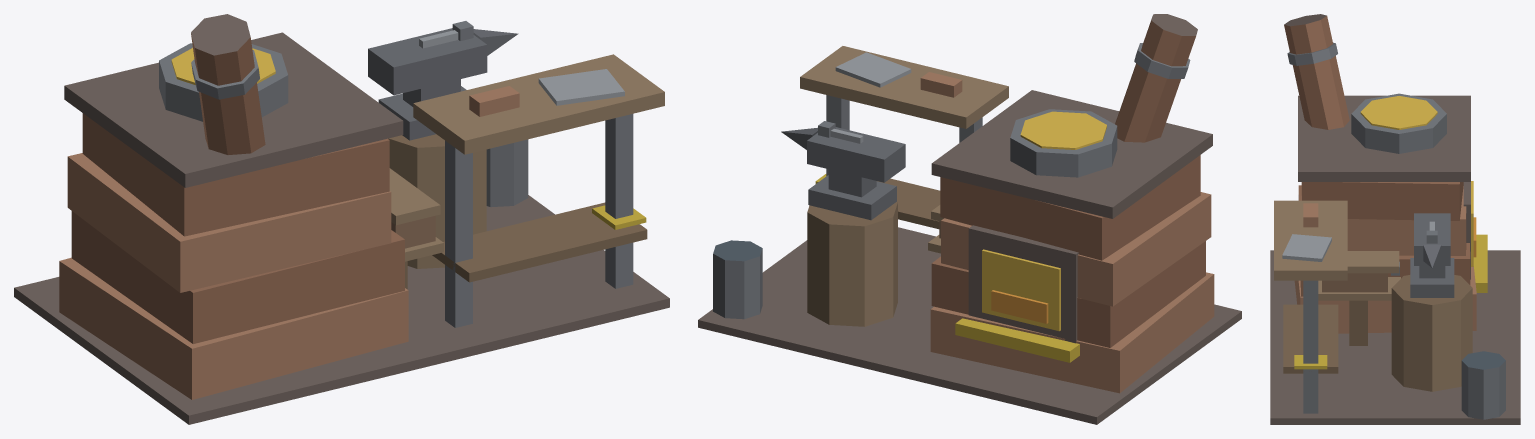
The model's file is forge.glb.
3 renders of one model, left to right at view 1: azimuth 30°, elevation 25°; view 2: azimuth 150°, elevation 25°; view 3: azimuth 270°, elevation 25°, orthographic. The views are drawn at different scales.
Visible parts, largest first — view 1: prop.forge; view 2: prop.forge; view 3: prop.forge.
Boxes of the visible parts, <box> form: prop.forge: <box>14,14,669,424</box>; prop.forge: <box>698,14,1241,424</box>; prop.forge: <box>1270,14,1520,424</box>.
Bounding box in the file's own units: 2.18 × 1.58 × 1.36.
